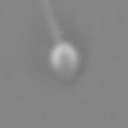normal: (40, 1, 66, 42)
